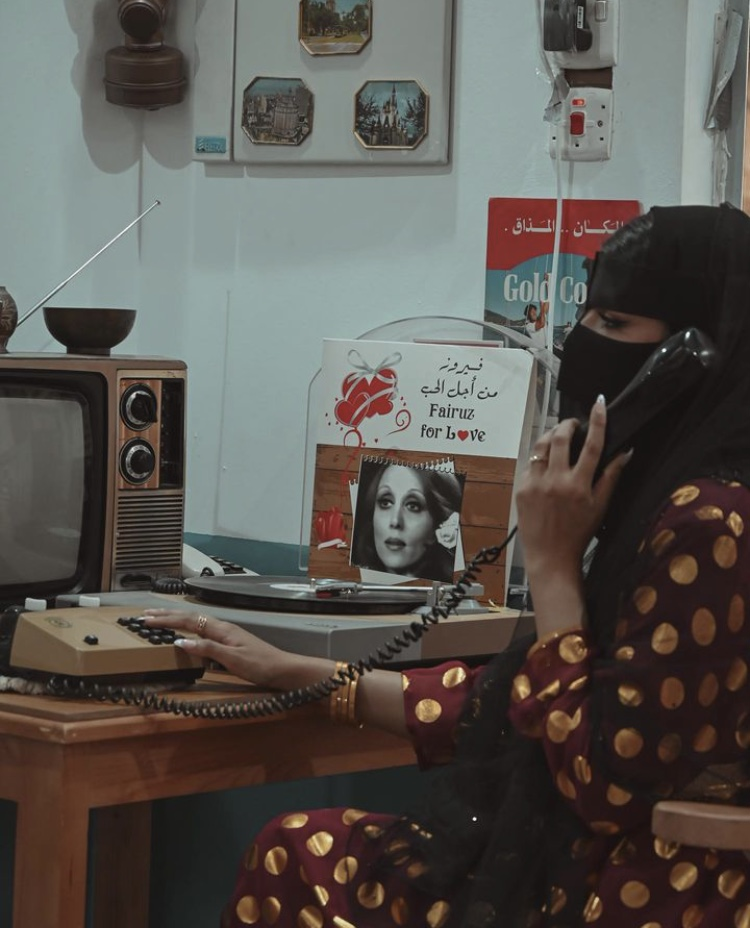Saudi_Founding_Day: (138, 203, 750, 928)
